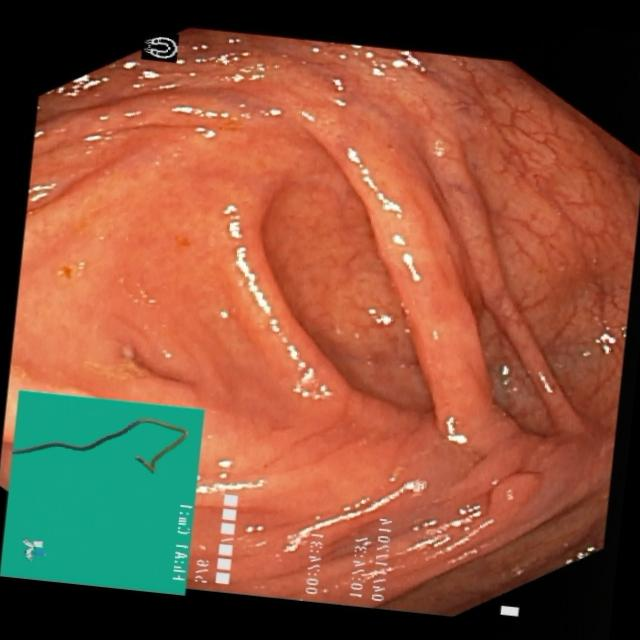normal-cecum: (77, 334, 191, 398), (470, 450, 554, 529)
